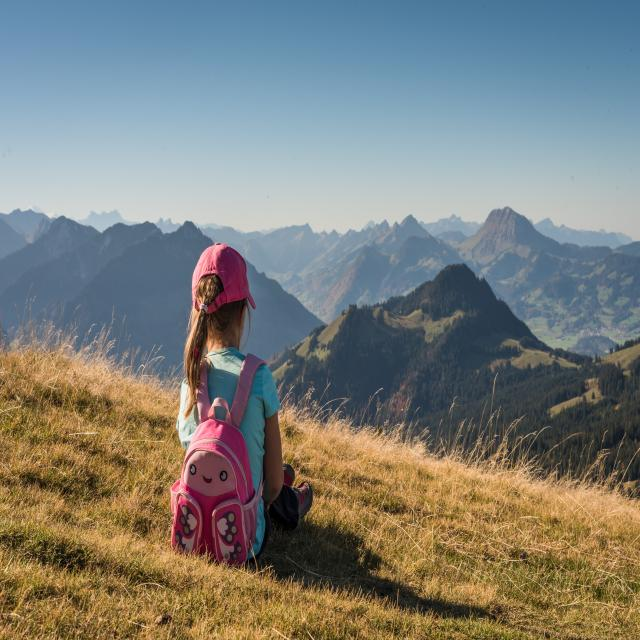backpack: (166, 356, 266, 564)
